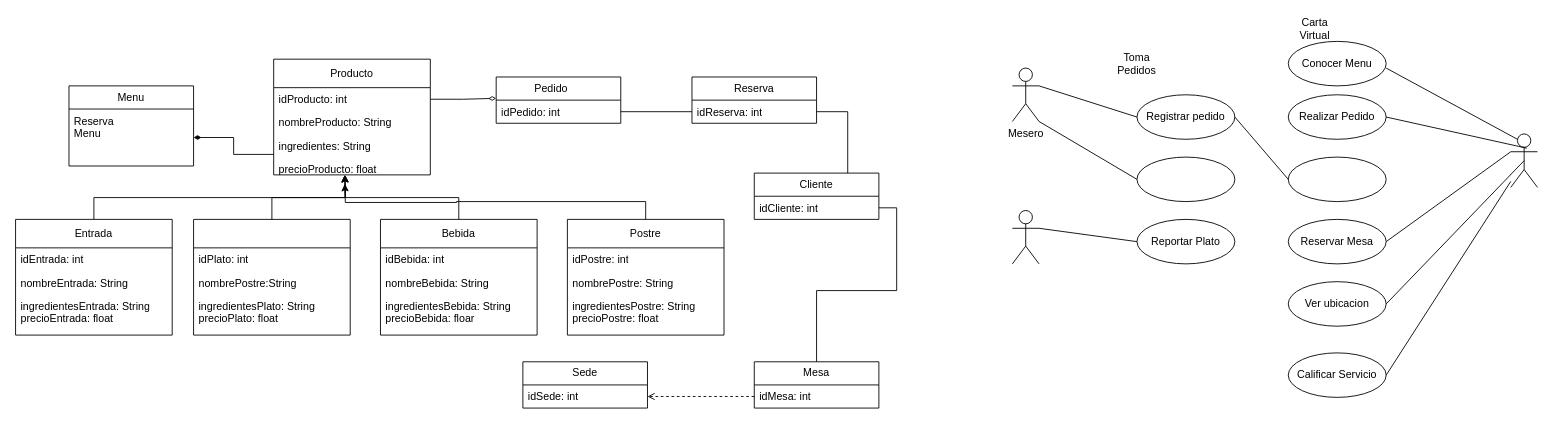
Some shapes in this 1564 by 425 pixel diagram are drawn without their labels. The box of each missing label's shape, as (x1, y1, x2, y2) in pixels:
Chef: (1011, 210, 1039, 264)
Comensal: (1510, 133, 1537, 187)
Plato Fuerte: (193, 218, 350, 335)
Registrar Cliente: (1287, 156, 1386, 202)
Reportar Pedido: (1136, 156, 1235, 202)
